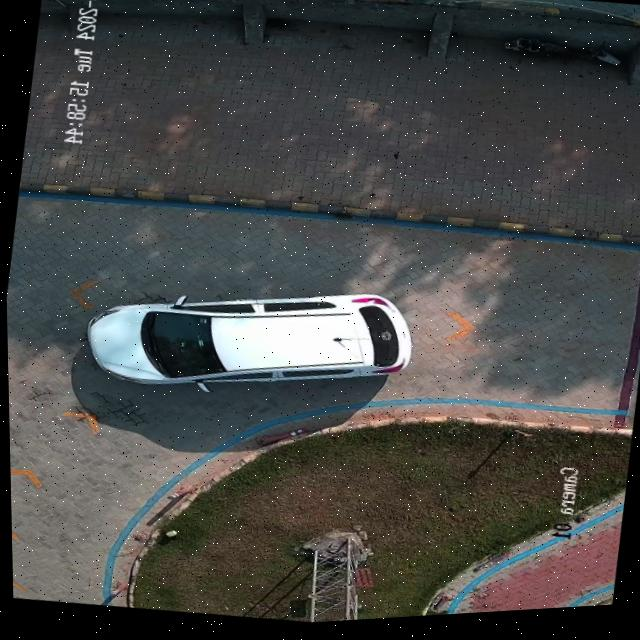car: (87, 298, 412, 389)
